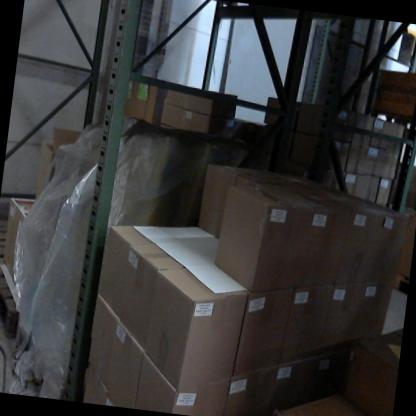pallet: (0, 262, 36, 343), (0, 208, 38, 277), (369, 103, 416, 146)
